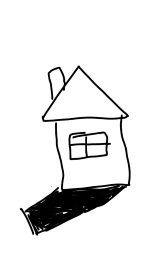chimney: (40, 56, 69, 99)
closed_window: (62, 127, 114, 162)
roof: (40, 61, 131, 127)
shadow: (11, 177, 137, 240)
wall: (50, 114, 132, 188)
